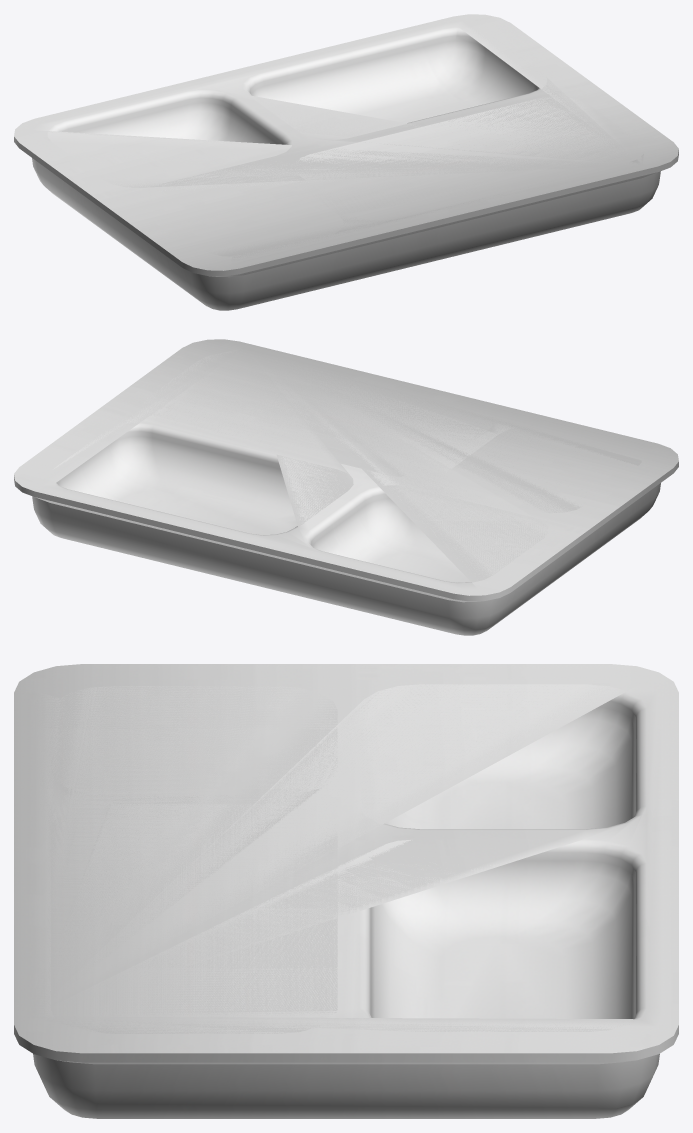
Rendered from Lunch Box 6.fbx.
The picture shows the model from 3 angles, top to bottom: view 1: azimuth 30°, elevation 25°; view 2: azimuth 150°, elevation 25°; view 3: azimuth 270°, elevation 25°; orthographic projection. The views are drawn at different scales.
Visible parts, largest first — view 1: Cube.186; view 2: Cube.186; view 3: Cube.186.
Part boxes in pixels (box(x1,y1,x2,y2)): Cube.186: box(14, 14, 678, 310); Cube.186: box(14, 339, 678, 635); Cube.186: box(14, 664, 678, 1118).
Bounding box in the file's own units: 140 × 15.73 × 101.
